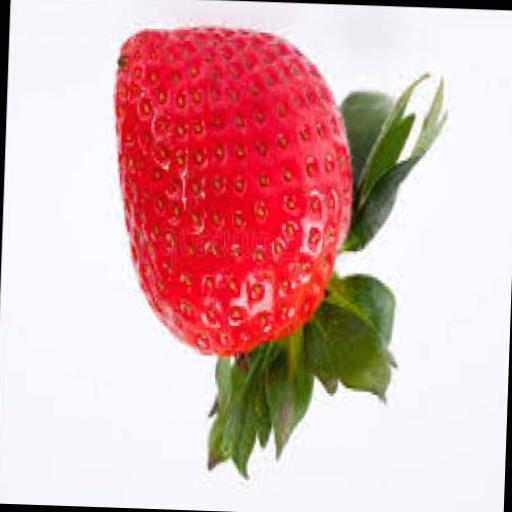biodegradable: (96, 23, 454, 488)
